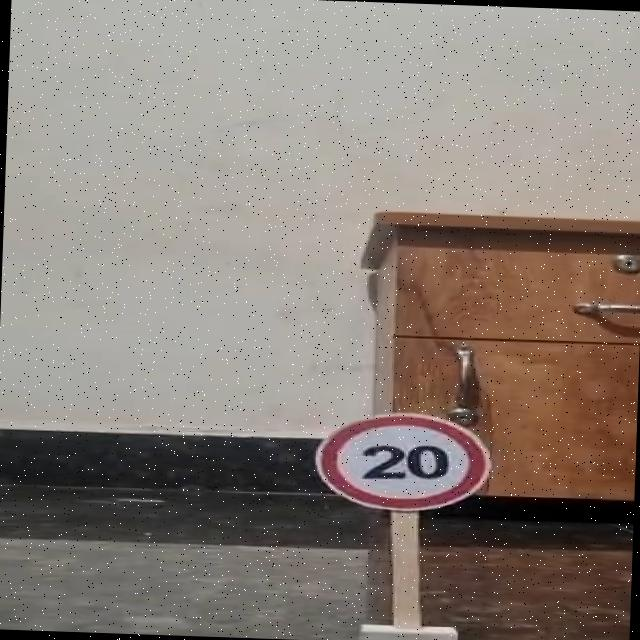Speed20: (294, 404, 508, 520)
